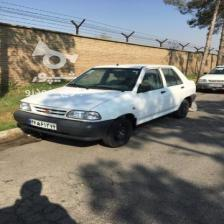plate: (27, 118, 57, 130)
